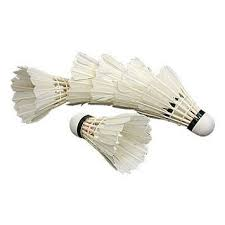shuttle: (69, 108, 152, 174), (7, 45, 67, 125), (149, 65, 212, 137), (72, 50, 92, 106), (120, 58, 142, 105), (95, 57, 114, 105)
